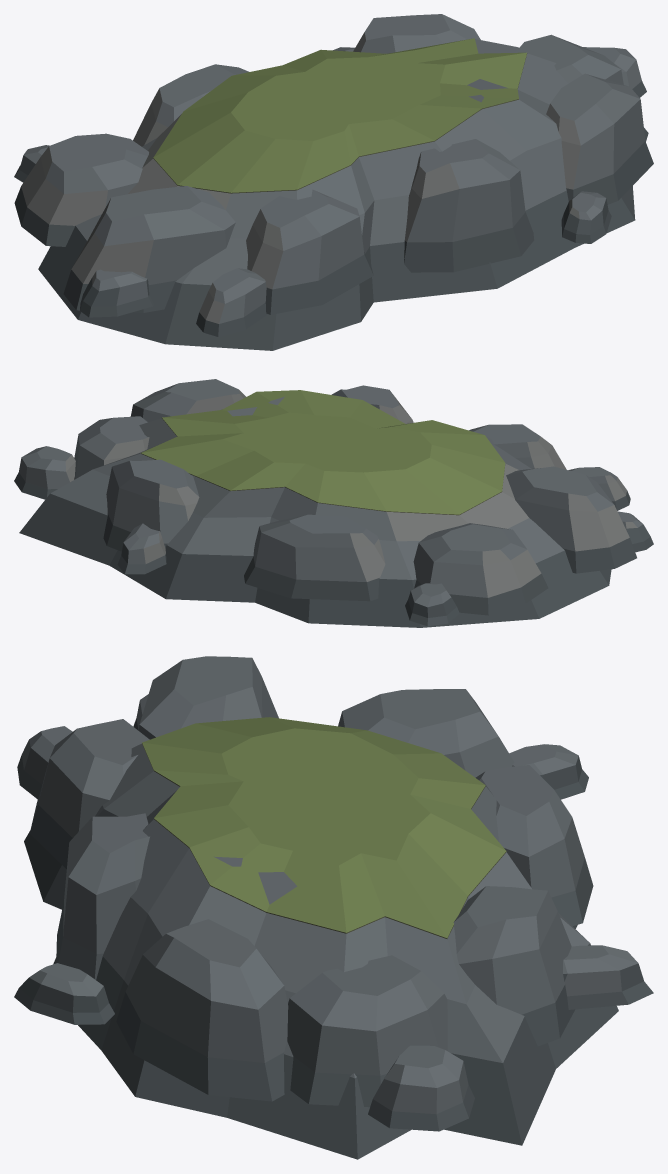
Rendered from island_b.glb.
3 renders of one model, top to bottom at view 1: azimuth 30°, elevation 25°; view 2: azimuth 150°, elevation 25°; view 3: azimuth 270°, elevation 25°, orthographic. The views are drawn at different scales.
Parts seen in each view (by area): view 1: island_b_Coast blue grey bedrock, island_b_Coast short olive grass; view 2: island_b_Coast blue grey bedrock, island_b_Coast short olive grass; view 3: island_b_Coast blue grey bedrock, island_b_Coast short olive grass.
Part boxes in pixels (box(x1,y1,x2,y2)): island_b_Coast blue grey bedrock: box(14, 14, 653, 350); island_b_Coast short olive grass: box(153, 38, 527, 193); island_b_Coast blue grey bedrock: box(14, 379, 653, 627); island_b_Coast short olive grass: box(140, 390, 505, 515); island_b_Coast blue grey bedrock: box(14, 656, 653, 1159); island_b_Coast short olive grass: box(142, 717, 506, 938).
Size of the model in its own units: 148 by 27.78 by 96.91.
